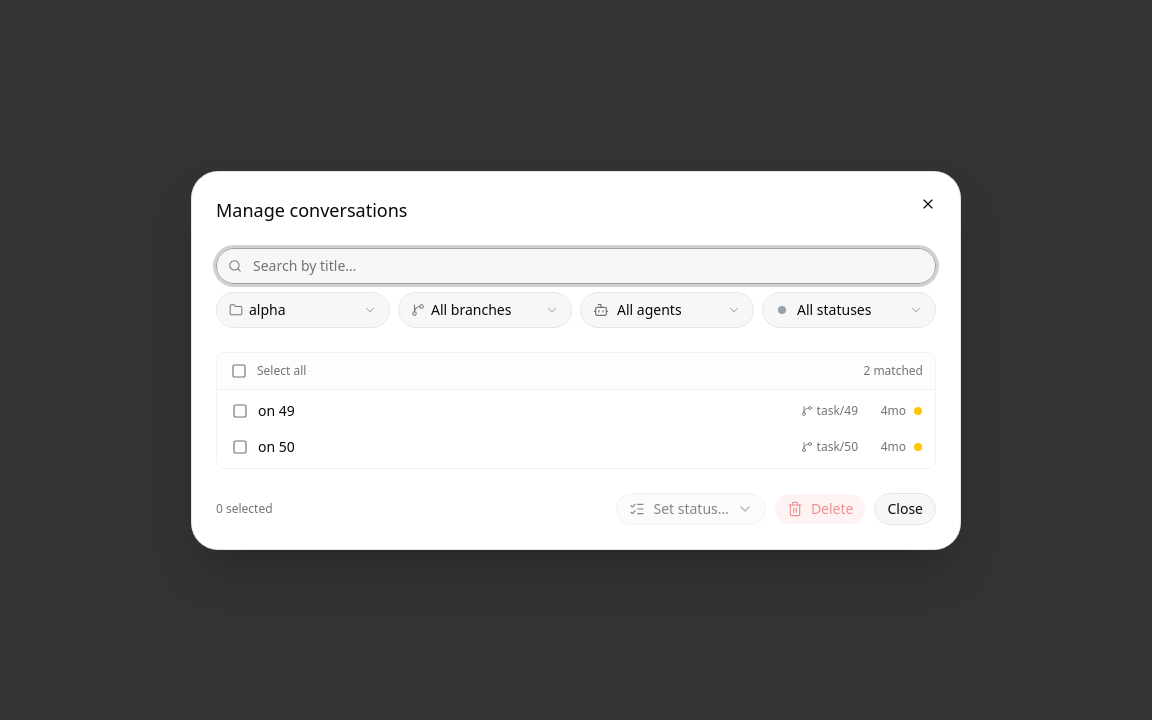
ConversationManageDialog › flattens to whole branch names while searching
Check: the text "on 49" is shown, box [258,400,295,420]
Click the button "All branches" at x=485, y=310, box [398,292,572,328]
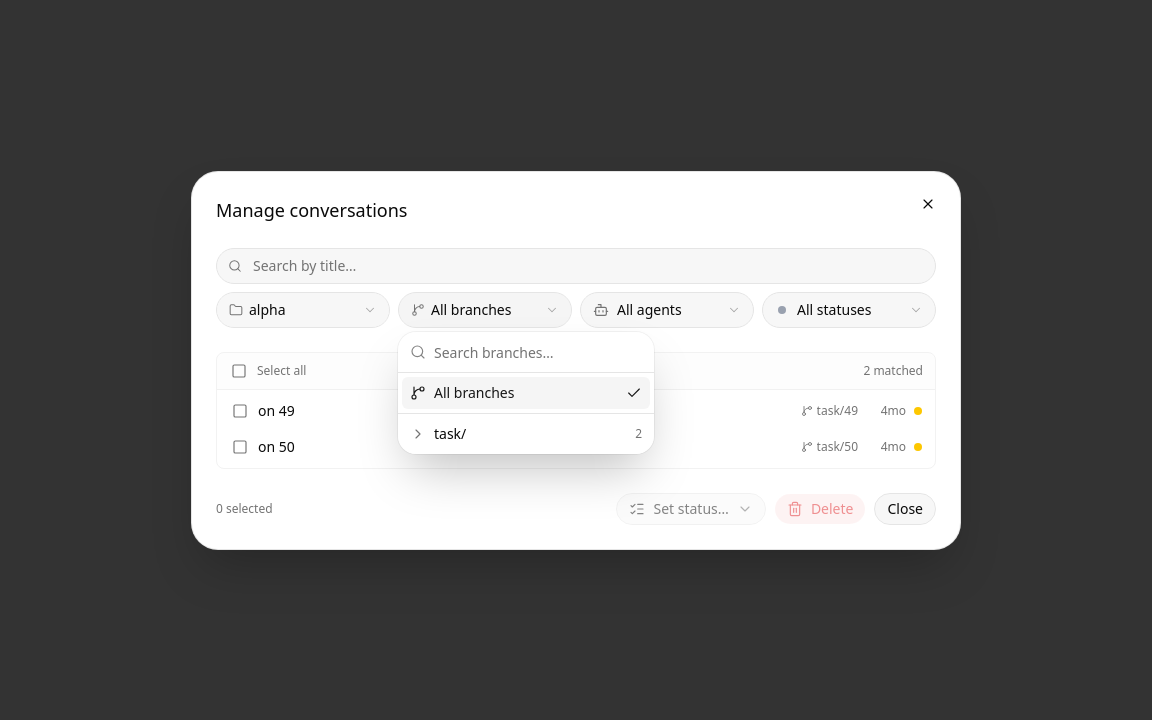
Type "49" into the dropdown with placeholder "Search branches…" at x=538, y=352, box [434,332,642,372]
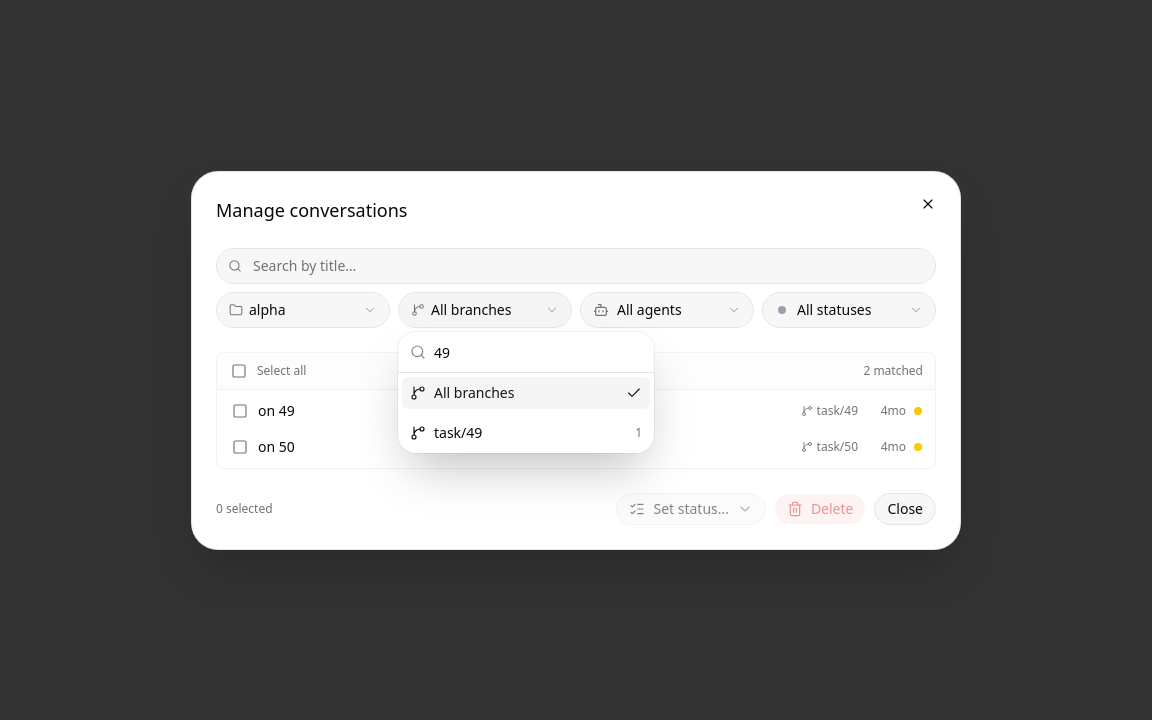
Check: the option "task/49 1" is shown, box [410,423,642,442]
